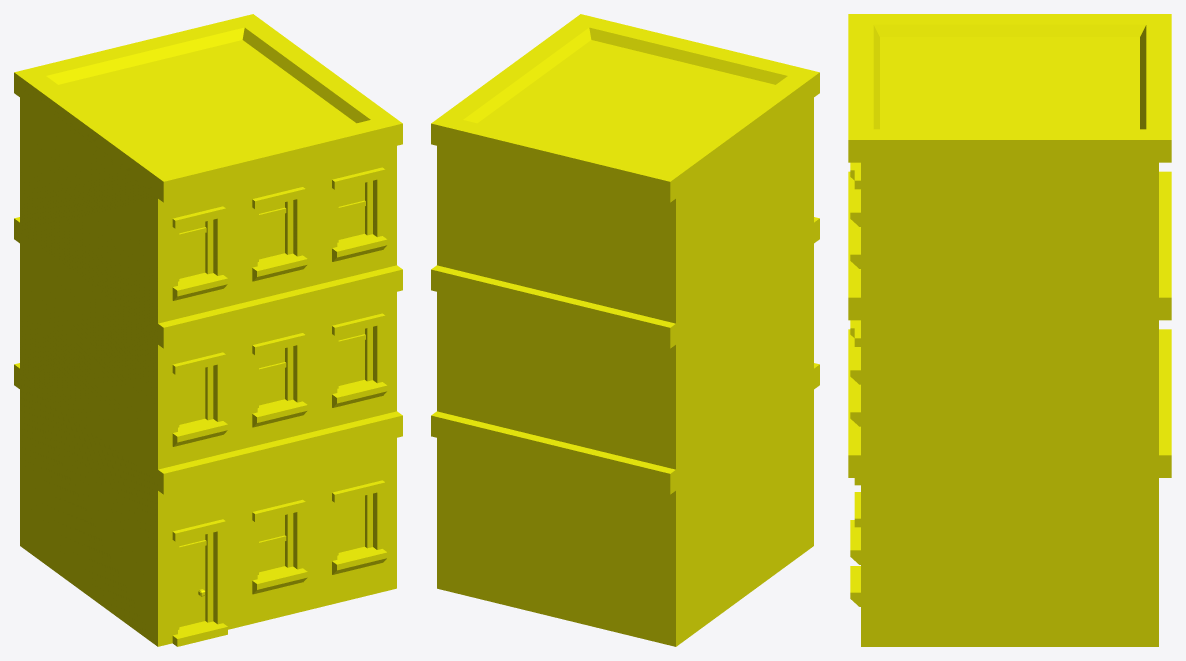
The model's file is kaykit-building-c-withoutbase.glb.
3 views of the same model, side by side, from view 1: azimuth 30°, elevation 25°; view 2: azimuth 150°, elevation 25°; view 3: azimuth 270°, elevation 25° (orthographic). The views are drawn at different scales.
Parts seen in each view (by area): view 1: building_C_withoutBase; view 2: building_C_withoutBase; view 3: building_C_withoutBase.
Boxes of the visible parts, box(x1,y1,x2,y2) form: building_C_withoutBase: box(14, 14, 402, 646); building_C_withoutBase: box(431, 14, 819, 646); building_C_withoutBase: box(848, 14, 1171, 646).
Size of the model in its own units: 1.21 by 2.25 by 1.3.
